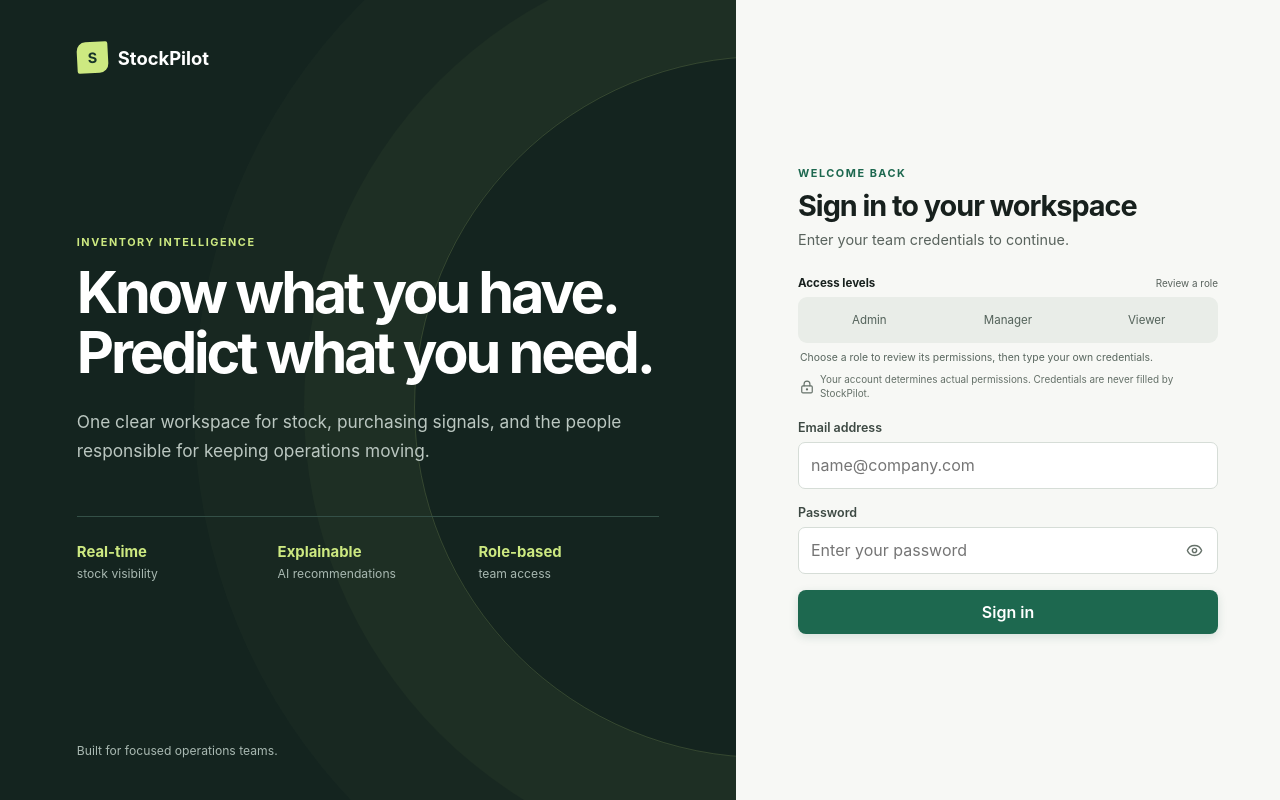
Login › shows client-side validation before sending invalid credentials
Type "not-an-email" into the field labelled "Email address". click: (1008,465)
box: 798,442 -> 1218,489
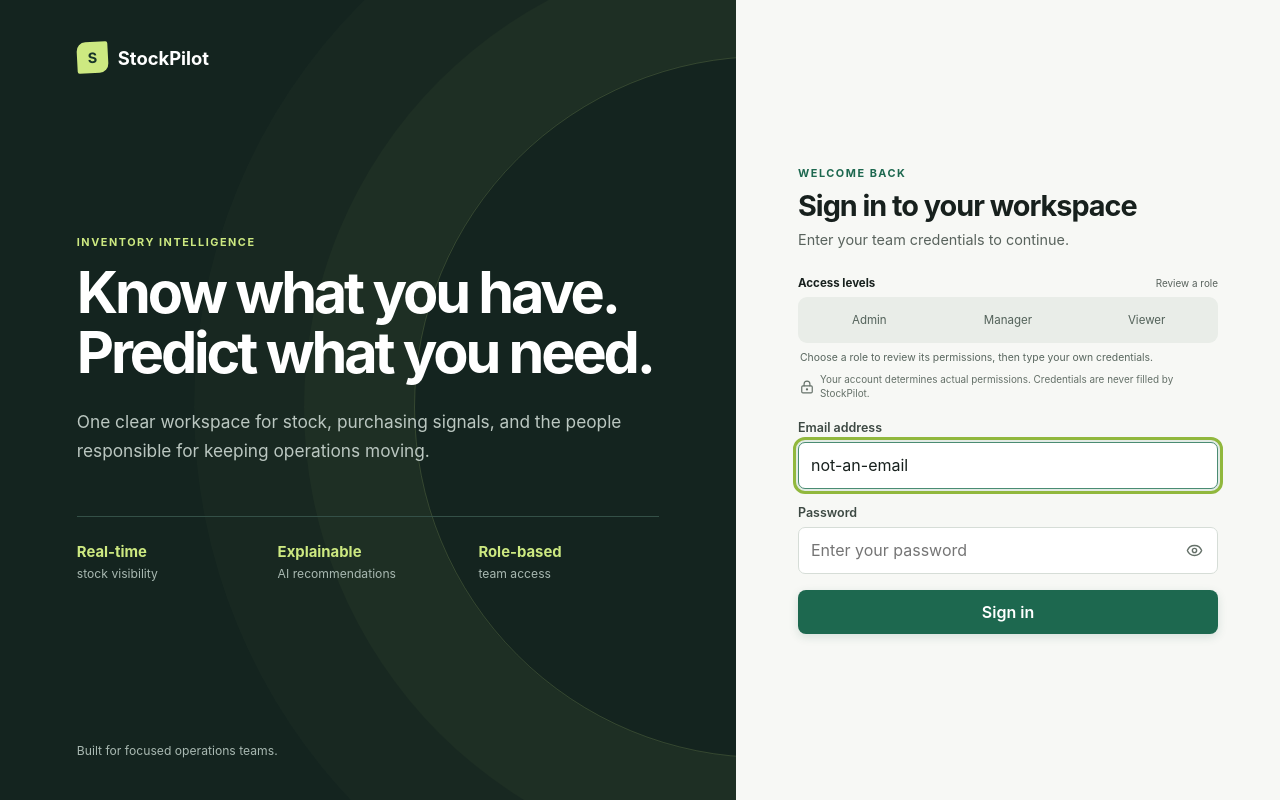
Clear the password field labelled "Password". click: (1008,550)
box: 798,527 -> 1218,574
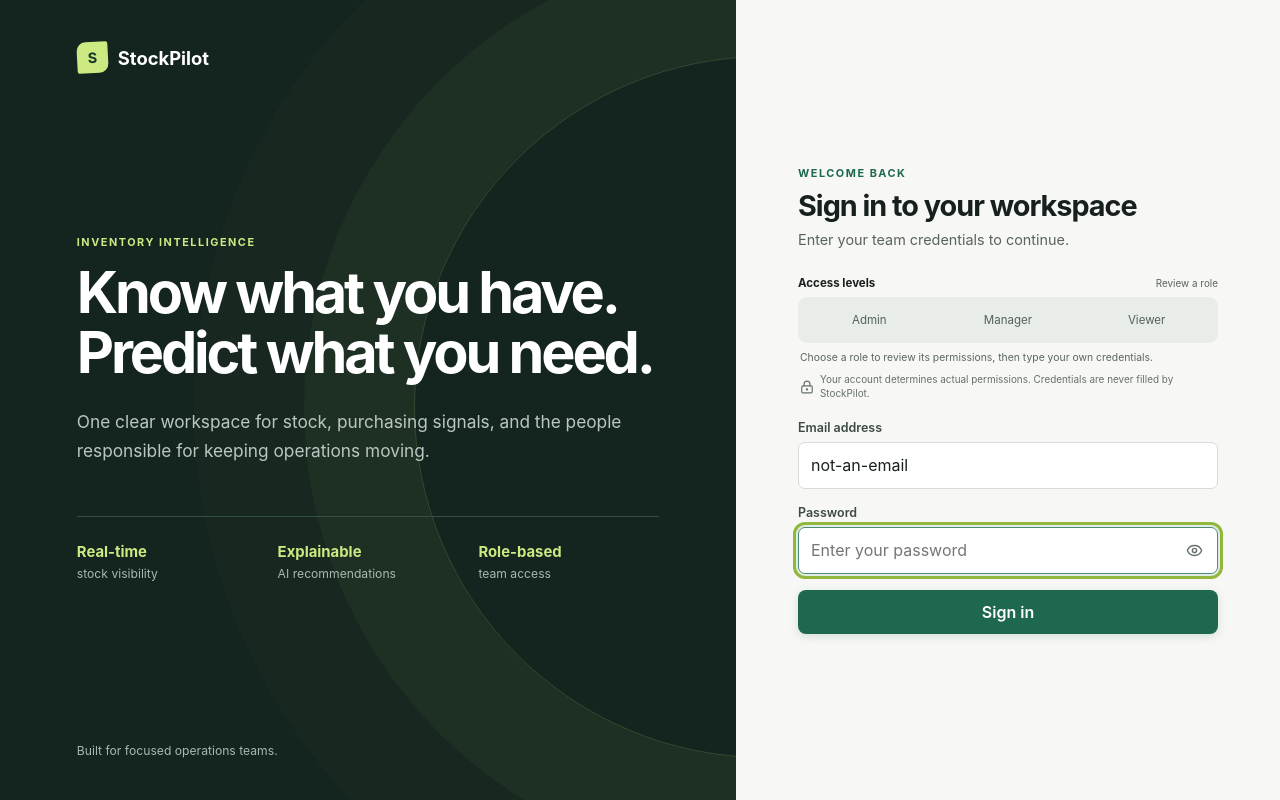
Click the button "Sign in". click: (1008,612)
box: 798,590 -> 1218,634
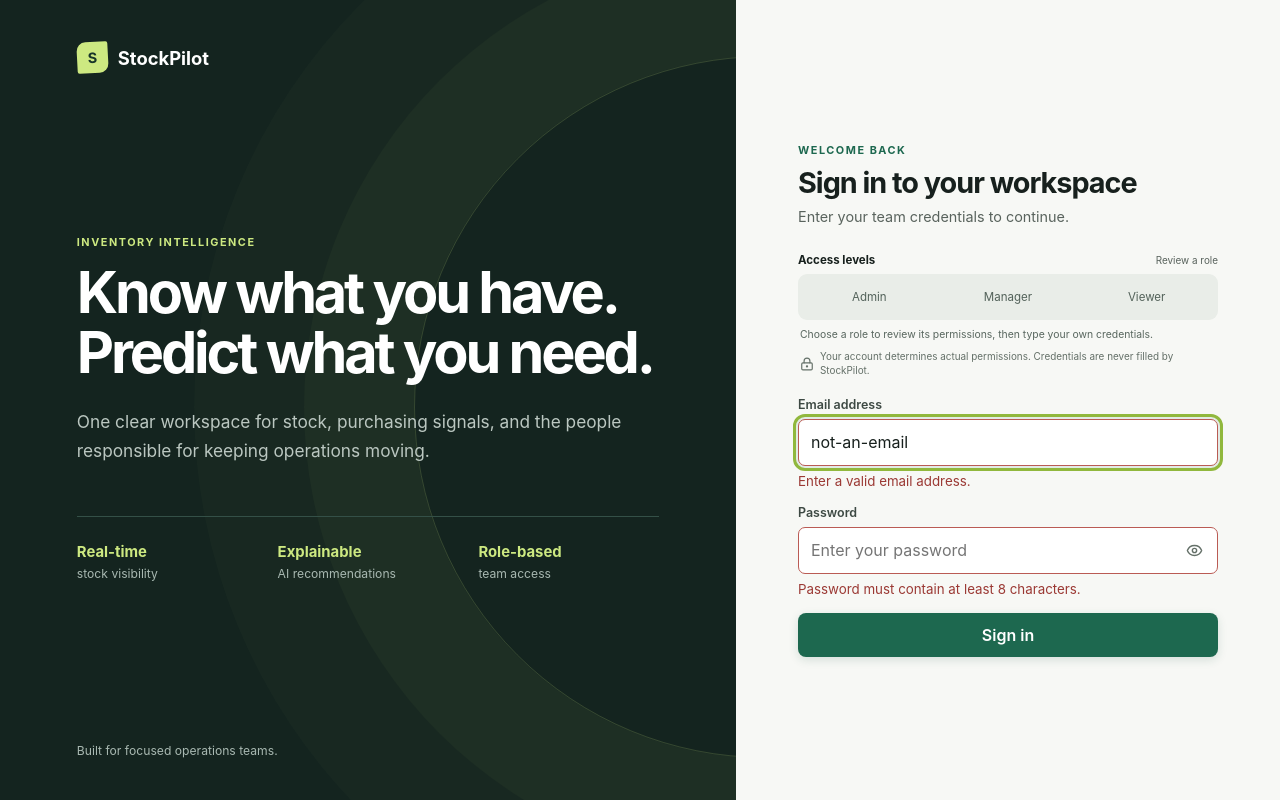
expect the text "Enter a valid email address." is shown: met, box 798,473 -> 971,489
expect the text "Password must contain at least 8 characters." is shown: met, box 798,581 -> 1081,597
